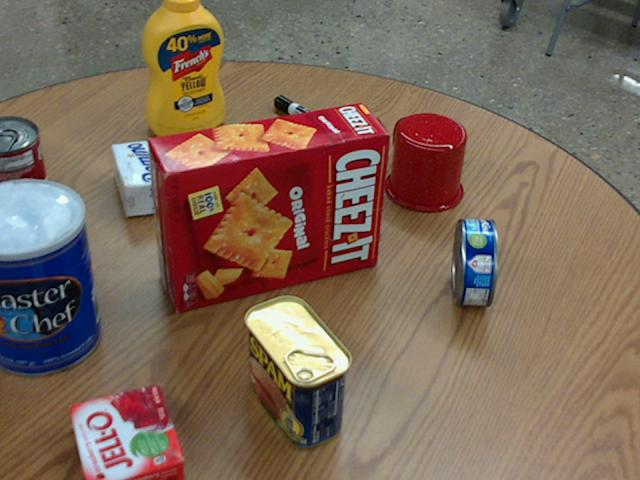cracker_box: (150, 103, 388, 310)
gelatin_box: (68, 383, 182, 479)
large_marker: (274, 94, 348, 142)
master_chef_can: (0, 179, 100, 376)
mug: (383, 113, 465, 211)
mustard_bottle: (142, 0, 224, 135)
potted_meat_can: (243, 295, 349, 447)
sugar_box: (110, 125, 280, 215)
tomato_soup_can: (0, 115, 51, 231)
tuna_fish_can: (451, 218, 497, 305)
